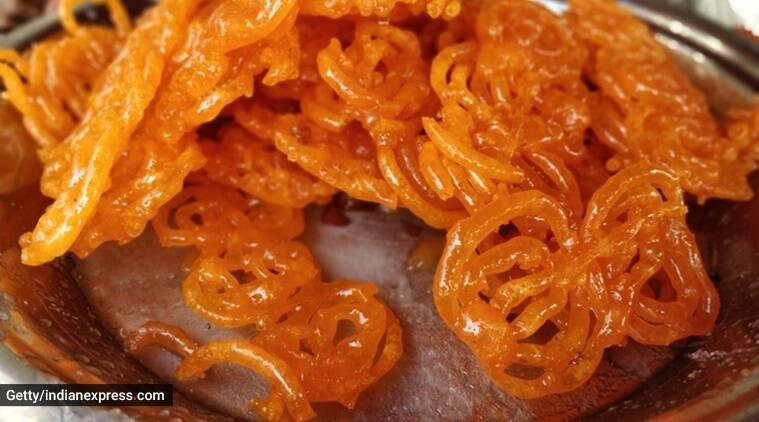jalebi: (4, 4, 759, 410)
